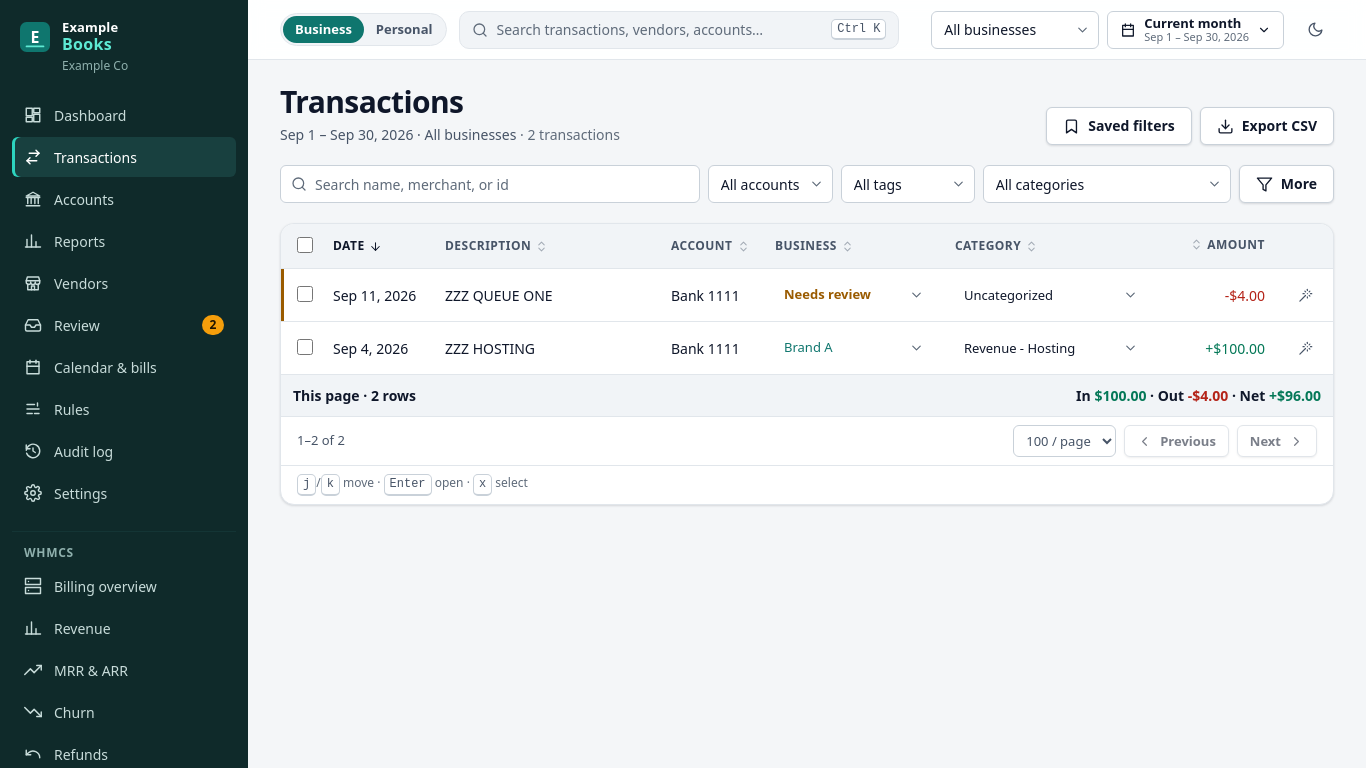
Test: classification flows › saves an inline tag change with the CSRF header, updates the row at once, and can undo
Select "General" in the dropdown named "Business tag for ZZZ QUEUE ONE" in the row of "Sep 11, 2026": (853, 295) [775, 280, 931, 310]
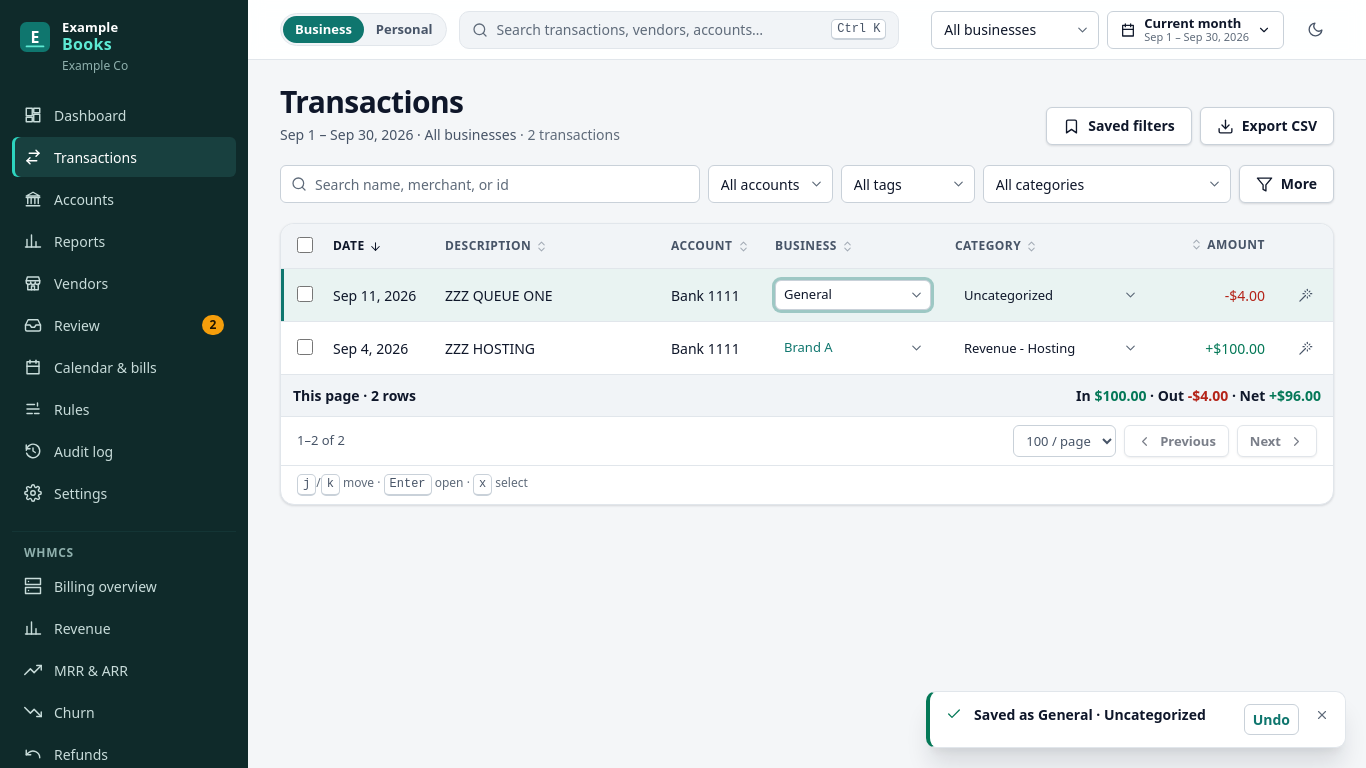
Expected: the text "Saved as General · Uncategorized" is shown, [974, 704, 1232, 725]
Click the button "Undo": (1271, 720) [1244, 704, 1299, 735]
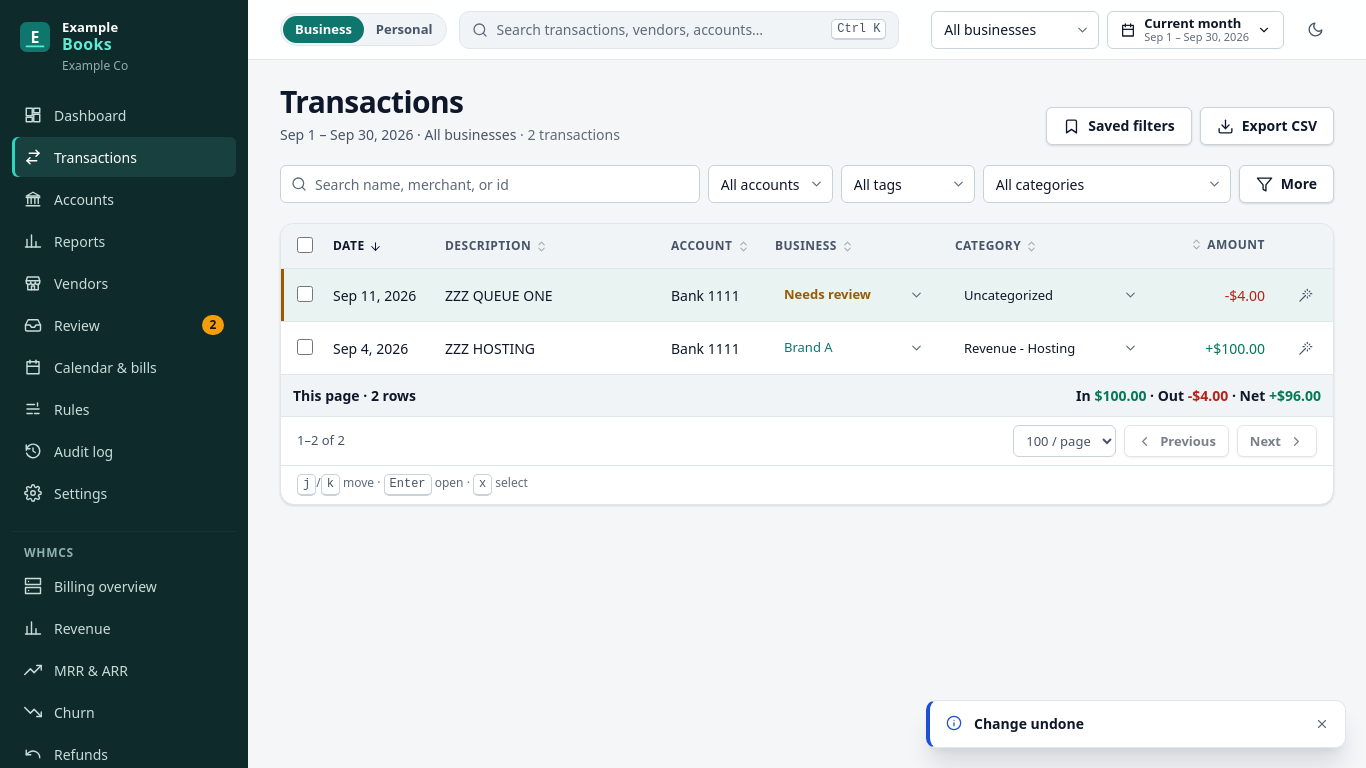
Expected: the text "Change undone" is shown, [974, 714, 1084, 733]
